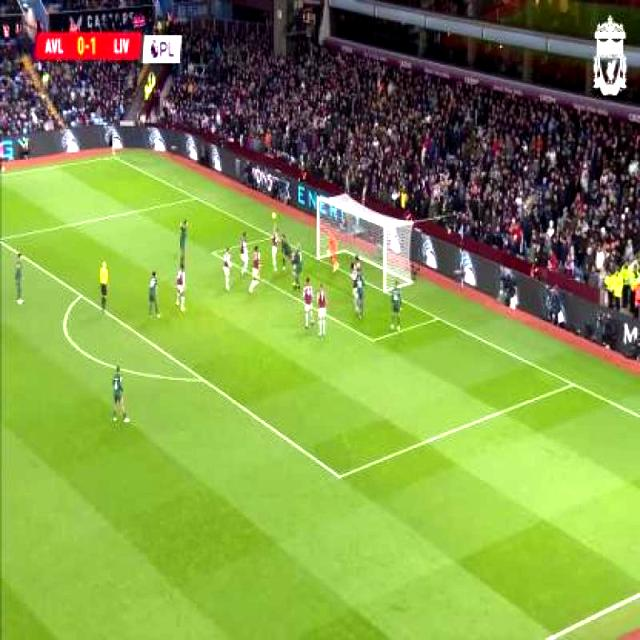bigarea_bottom_inner: (330, 462, 352, 492)
bigarea_bottom_outter: (562, 370, 583, 400)
bigarea_top_outter: (188, 186, 205, 209)
bottom_arc_area_intersection: (192, 363, 212, 395)
corner: (105, 150, 122, 164)
smallarea_bottom_inner: (365, 328, 383, 356)
smallarea_bottom_outter: (429, 309, 446, 331)
smallarea_top_inner: (206, 242, 224, 264)
top_arc_area_intersection: (74, 284, 88, 310)
